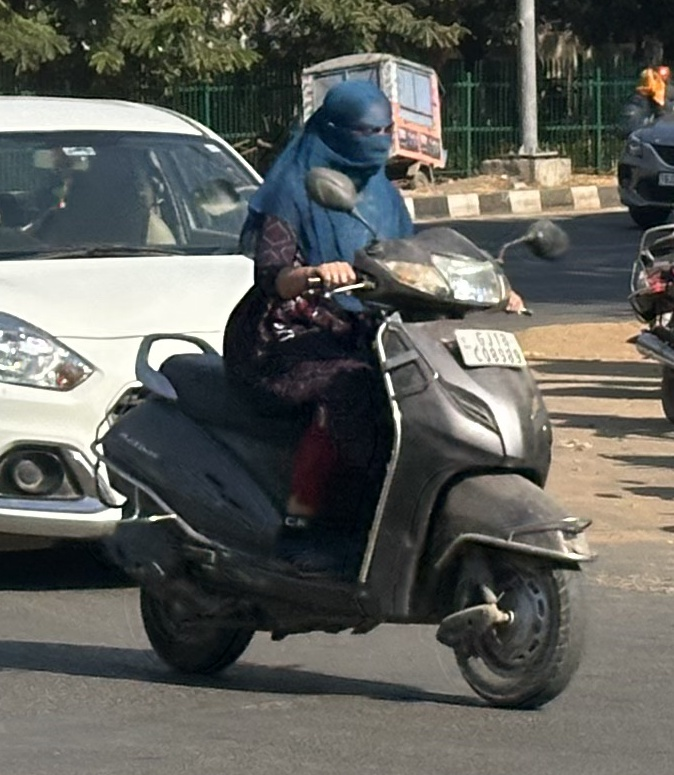BikeWithRider: (95, 72, 599, 712)
NoHelmet: (315, 78, 397, 174)
